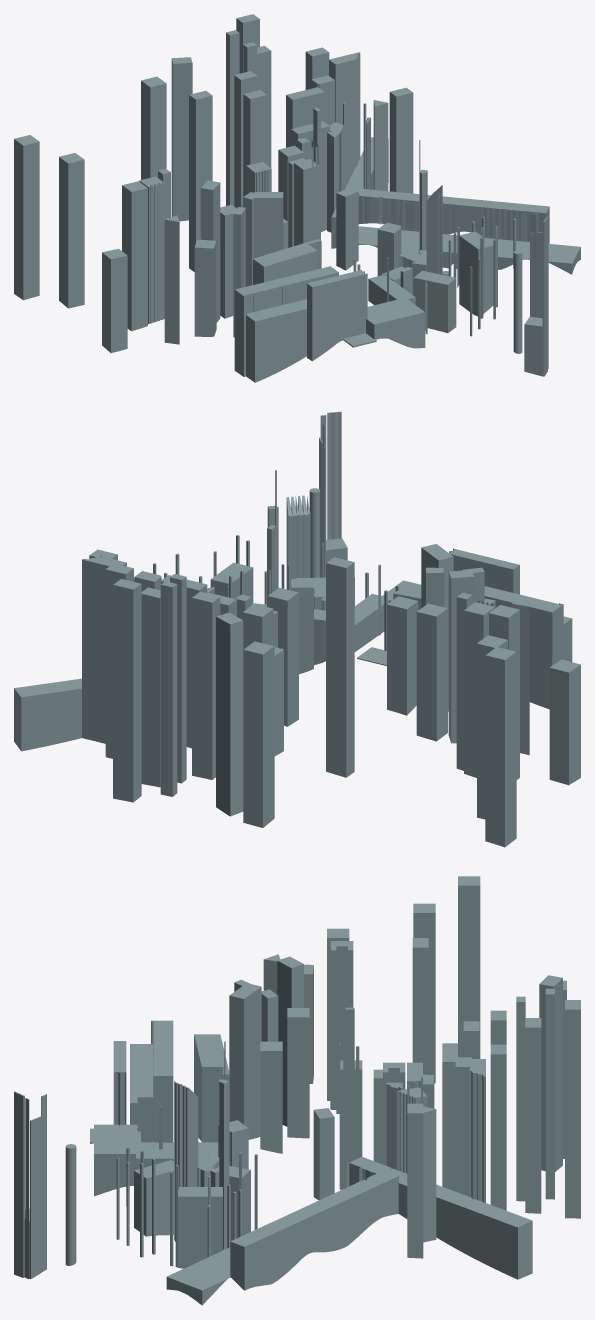
File: skyway-foundation.glb
3 renders of one model, top to bottom at view 1: azimuth 30°, elevation 25°; view 2: azimuth 150°, elevation 25°; view 3: azimuth 270°, elevation 25°, orthographic. The views are drawn at different scales.
Parts seen in each view (by area): view 1: Underside-fitted structural foundation; view 2: Underside-fitted structural foundation; view 3: Underside-fitted structural foundation.
Part boxes in pixels (x1,y1,x2,y2): Underside-fitted structural foundation: (14, 14, 580, 382); Underside-fitted structural foundation: (14, 411, 580, 847); Underside-fitted structural foundation: (14, 876, 580, 1305).
Size of the model in its own units: 1992 by 845 by 1843.
